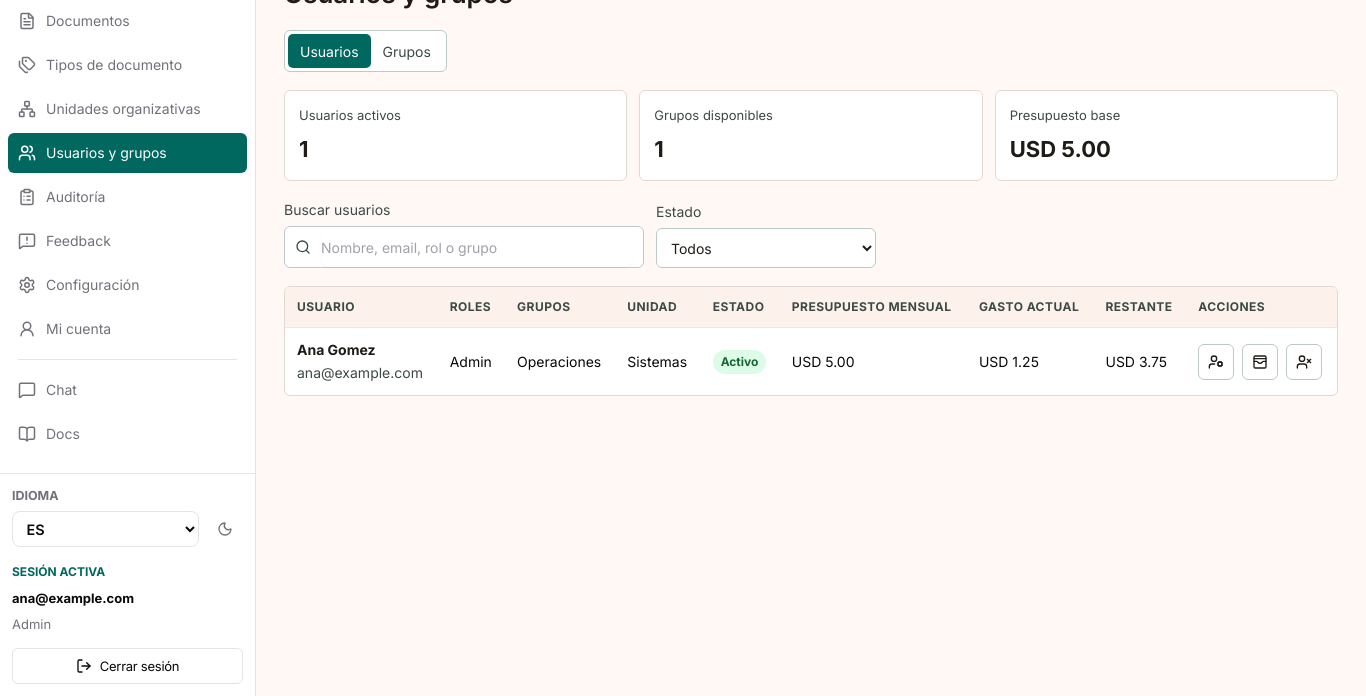
Test: management documents › opens published version content in the editor when no draft exists
Click the link "Documentos". click: [74, 21]
box: [18, 12, 130, 30]
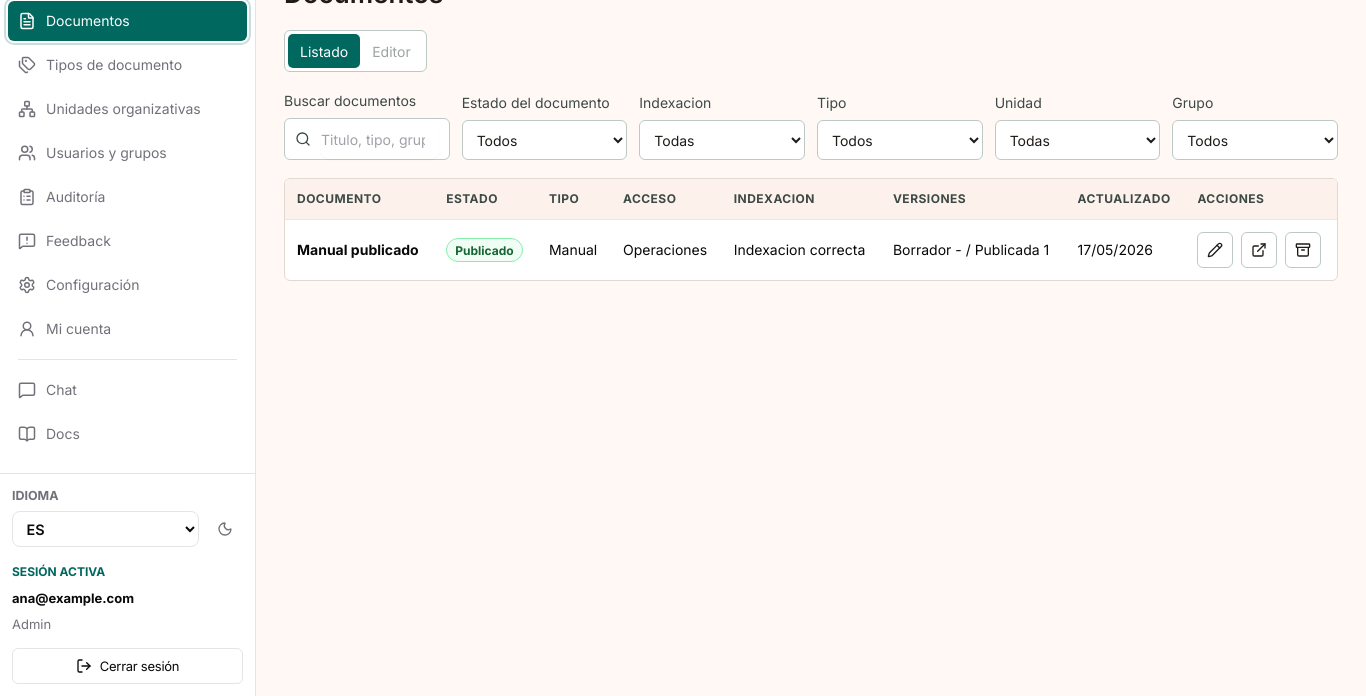
Click the button named "Editar Manual publicado". click: [1215, 250]
box: [1197, 232, 1233, 268]
(page scrolled)
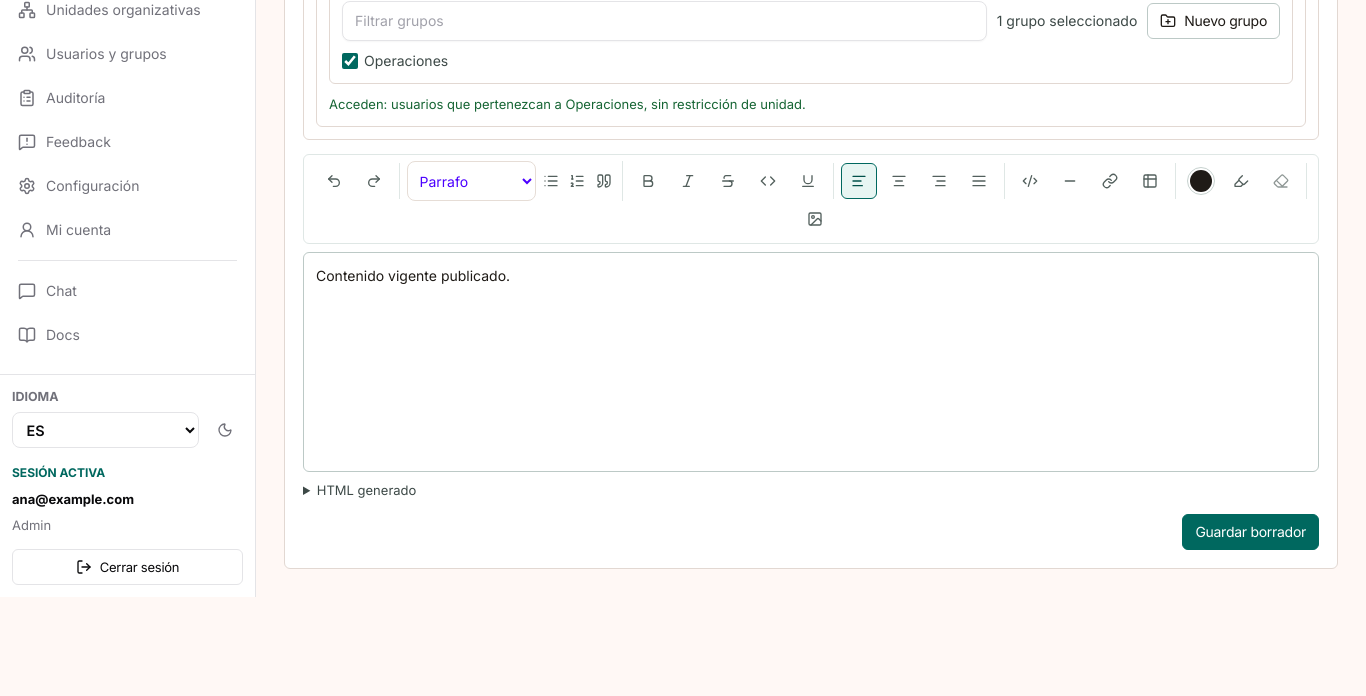
Now the field named "Contenido del documento" reads "Contenido vigente publicado.", box [303, 252, 1319, 472]
Now the button "Guardar borrador" is shown, box [1182, 514, 1319, 550]
